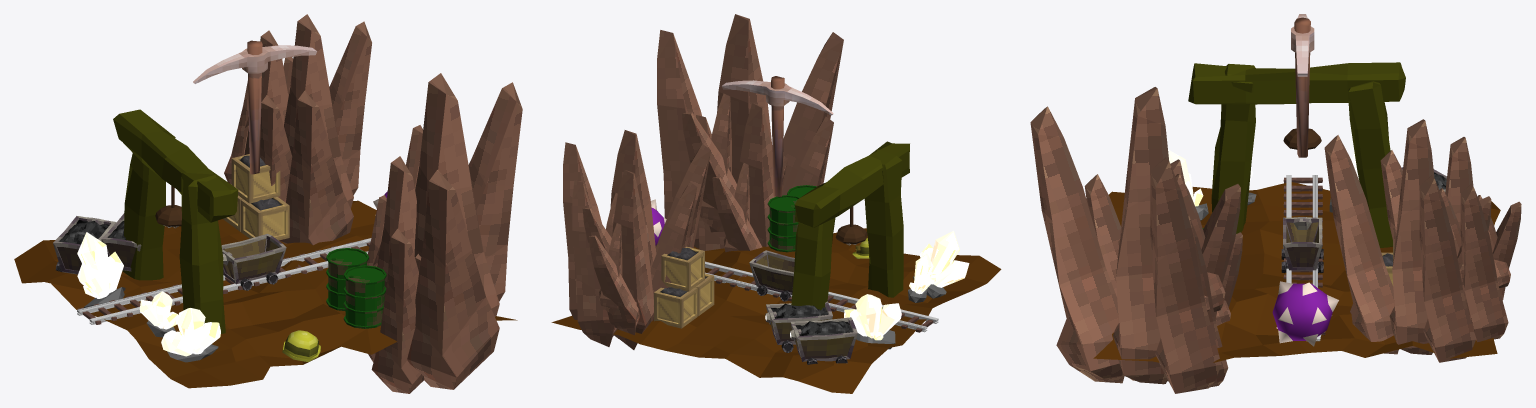
The model's file is dioramaLevel1.gltf.
3 renders of one model, left to right at view 1: azimuth 30°, elevation 25°; view 2: azimuth 150°, elevation 25°; view 3: azimuth 270°, elevation 25°, orthographic. The views are drawn at different scales.
Visible parts, largest first — view 1: DripStone.026, グリッド.004, DripStone.028, fanceGate.013, DripStone.025, DripStone.029, Pickaxe.002, BreakRaile.005, 円柱.012, Crystal.051, Trolley.001, Crystal.050 (+8 smaller); view 2: グリッド.004, DripStone.026, DripStone.029, fanceGate.013, DripStone.025, DripStone.028, CoalTrolley.004, Pickaxe.002, Crystal.051, Crystal.050, BreakRaile.005, CoalTrolley.005 (+7 smaller); view 3: DripStone.026, DripStone.028, fanceGate.013, グリッド.004, DripStone.029, DripStone.025, OODAMA.001, Pickaxe.002, Trolley.001, BreakRaile.005, Crystal.050, 天ライトオリジン.001.
Part boxes in pixels (<box>): DripStone.026: <box>406,73,522,389</box>; グリッド.004: <box>14,200,517,388</box>; DripStone.028: <box>279,14,371,245</box>; fanceGate.013: <box>113,109,238,333</box>; DripStone.025: <box>367,156,423,393</box>; DripStone.029: <box>224,30,292,202</box>; Pickaxe.002: <box>193,40,316,174</box>; BreakRaile.005: <box>77,238,371,324</box>; 円柱.012: <box>343,265,386,328</box>; Crystal.051: <box>77,232,125,307</box>; Trolley.001: <box>221,233,286,284</box>; Crystal.050: <box>161,308,220,362</box>; グリッド.004: <box>551,228,1001,393</box>; DripStone.026: <box>657,14,843,248</box>; DripStone.029: <box>572,170,697,349</box>; fanceGate.013: <box>791,141,909,310</box>; DripStone.025: <box>696,103,833,252</box>; DripStone.028: <box>563,130,710,319</box>; CoalTrolley.004: <box>790,317,857,364</box>; Pickaxe.002: <box>722,76,833,196</box>; Crystal.051: <box>844,294,901,349</box>; Crystal.050: <box>913,230,969,298</box>; BreakRaile.005: <box>705,261,938,332</box>; CoalTrolley.005: <box>765,301,832,352</box>; DripStone.026: <box>1030,87,1240,393</box>; DripStone.028: <box>1324,119,1491,362</box>; fanceGate.013: <box>1188,62,1405,247</box>; グリッド.004: <box>1093,182,1500,362</box>; DripStone.029: <box>1380,137,1521,342</box>; DripStone.025: <box>1084,159,1242,387</box>; OODAMA.001: <box>1272,281,1338,346</box>; Pickaxe.002: <box>1291,14,1314,157</box>; Trolley.001: <box>1283,217,1322,270</box>; BreakRaile.005: <box>1283,175,1325,341</box>; Crystal.050: <box>1168,149,1208,220</box>; 天ライトオリジン.001: <box>1283,128,1321,149</box>.
Size of the model in its own units: 2.31 by 1.88 by 2.55.
Materials: 21 (16 with a texture image).
